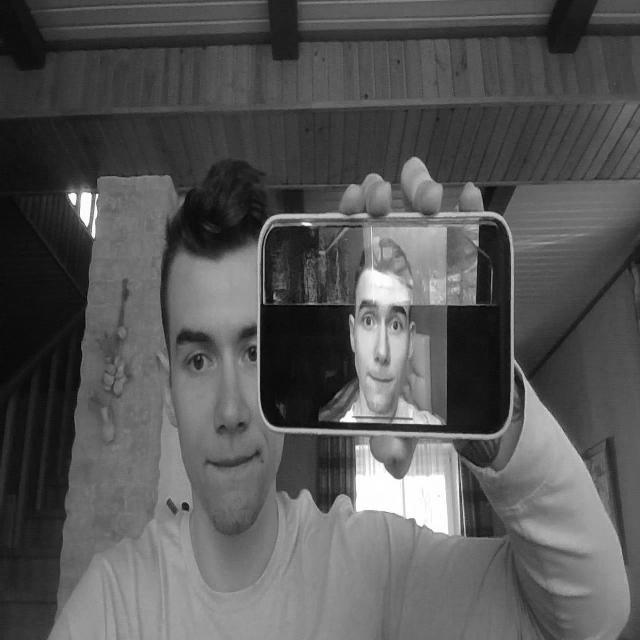fake: (258, 210, 514, 438)
real: (168, 272, 266, 530)
